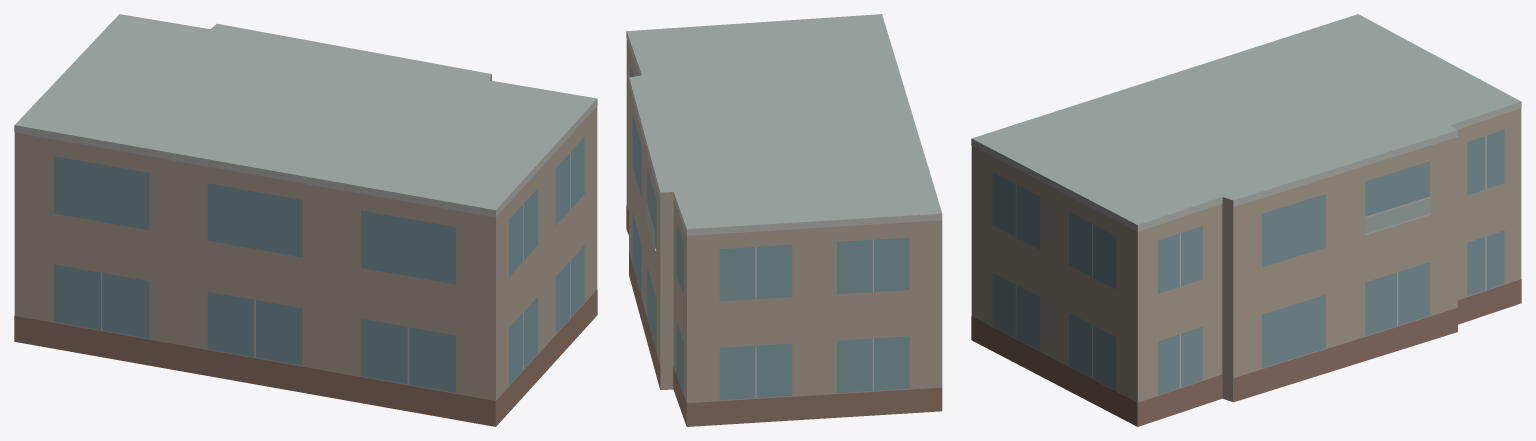
The model's file is survey-upis-32996762.glb.
3 renders of one model, left to right at view 1: azimuth 30°, elevation 25°; view 2: azimuth 150°, elevation 25°; view 3: azimuth 270°, elevation 25°, orthographic. The views are drawn at different scales.
Parts seen in each view (by area): view 1: survey-upis-32996762.tmp; view 2: survey-upis-32996762.tmp; view 3: survey-upis-32996762.tmp.
Part boxes in pixels (left/top/right/bottom): survey-upis-32996762.tmp: left=14, top=14, right=597, bottom=426; survey-upis-32996762.tmp: left=626, top=14, right=942, bottom=426; survey-upis-32996762.tmp: left=971, top=14, right=1521, bottom=426.
Size of the model in its own units: 16.39 by 7.3 by 18.04.
